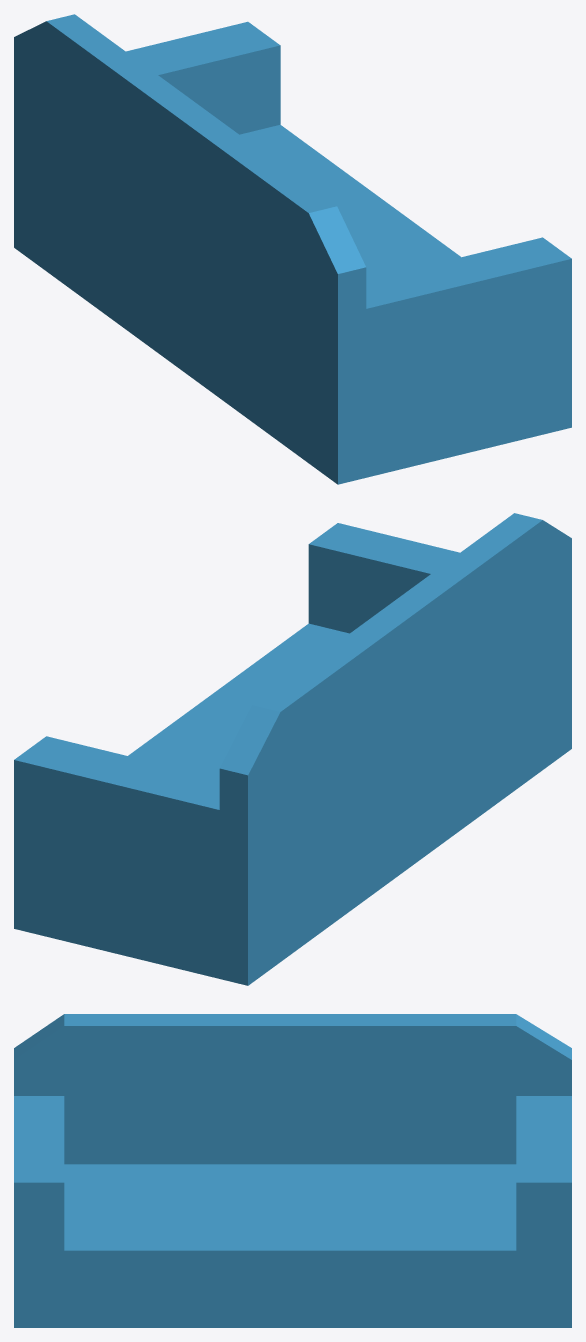
The model's file is Sofa.fbx.
3 renders of one model, top to bottom at view 1: azimuth 30°, elevation 25°; view 2: azimuth 150°, elevation 25°; view 3: azimuth 270°, elevation 25°, orthographic. The views are drawn at different scales.
Visible parts, largest first — view 1: Cube; view 2: Cube; view 3: Cube.
Part boxes in pixels (bbox=[...]): Cube: bbox=[14, 14, 571, 484]; Cube: bbox=[14, 513, 571, 985]; Cube: bbox=[14, 1014, 571, 1327].
Bounding box in the file's own units: 112 × 114 × 269.
